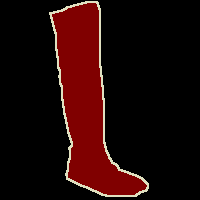shoe: (50, 2, 148, 196)
